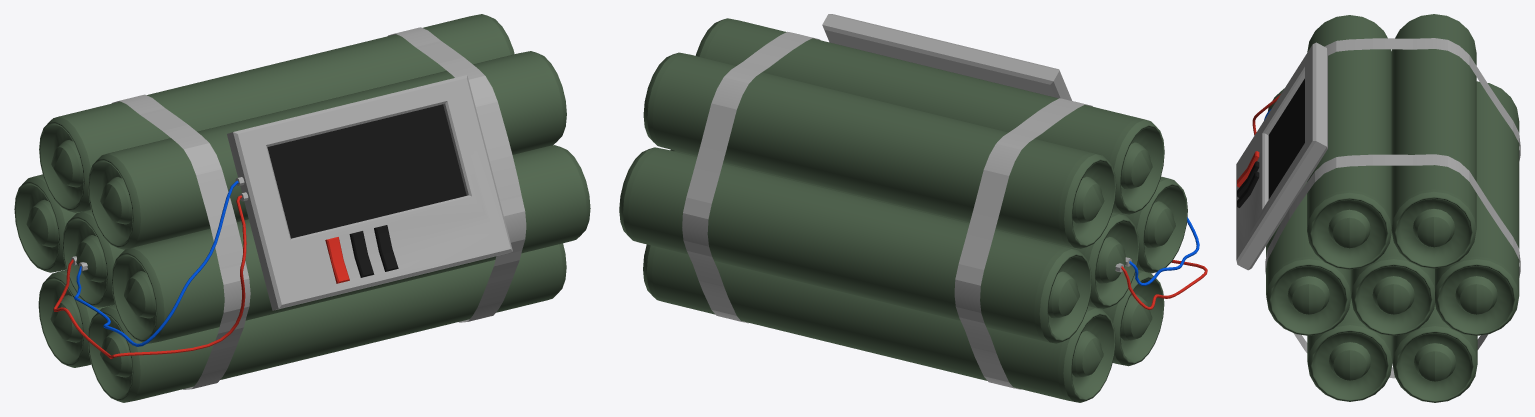
The model's file is DOMExplosive.fbx.
3 views of the same model, side by side, from view 1: azimuth 30°, elevation 25°; view 2: azimuth 150°, elevation 25°; view 3: azimuth 270°, elevation 25° (orthographic). The views are drawn at different scales.
Parts seen in each view (by area): view 1: curve3; view 2: curve3; view 3: curve3.
Part boxes in pixels (<box>): curve3: <box>14,14,590,402</box>; curve3: <box>619,14,1207,402</box>; curve3: <box>1236,14,1520,402</box>.
Bounding box in the file's own units: 24.18 × 12.66 × 14.5.
